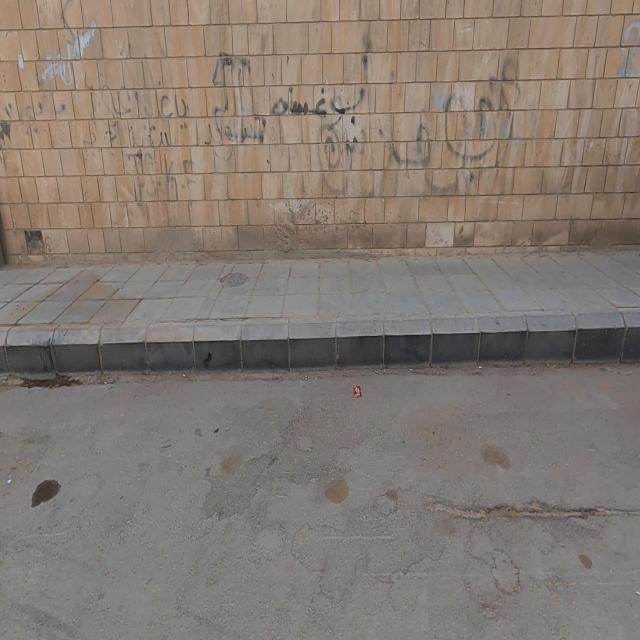Graffiti: (1, 1, 525, 202), (617, 15, 640, 85)
